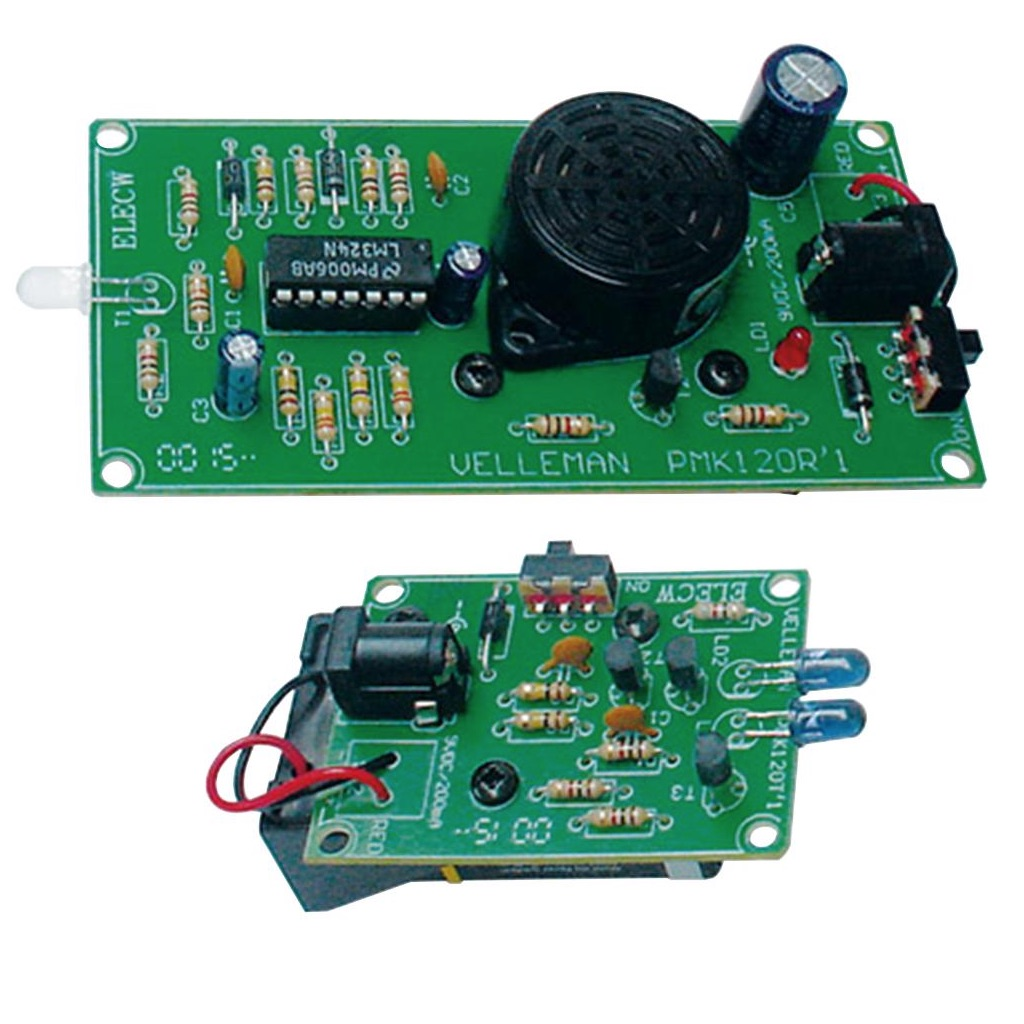Capacitor: (732, 42, 850, 201), (424, 237, 490, 327), (208, 326, 267, 421)
Diode: (836, 355, 877, 416), (477, 592, 511, 647), (318, 147, 348, 198), (220, 156, 248, 204)
LED: (789, 643, 872, 698), (783, 697, 869, 750), (772, 324, 814, 377)
Resistor: (526, 412, 601, 443), (542, 776, 611, 805), (722, 404, 792, 432), (309, 387, 340, 449), (174, 173, 205, 233), (581, 805, 655, 830), (506, 709, 577, 735), (388, 361, 418, 422), (596, 738, 663, 765), (185, 269, 215, 329), (134, 336, 164, 396), (273, 363, 301, 423), (688, 599, 753, 624), (346, 363, 373, 423), (384, 154, 413, 209), (511, 680, 576, 704), (290, 152, 317, 209), (355, 152, 382, 208), (251, 152, 276, 204)
